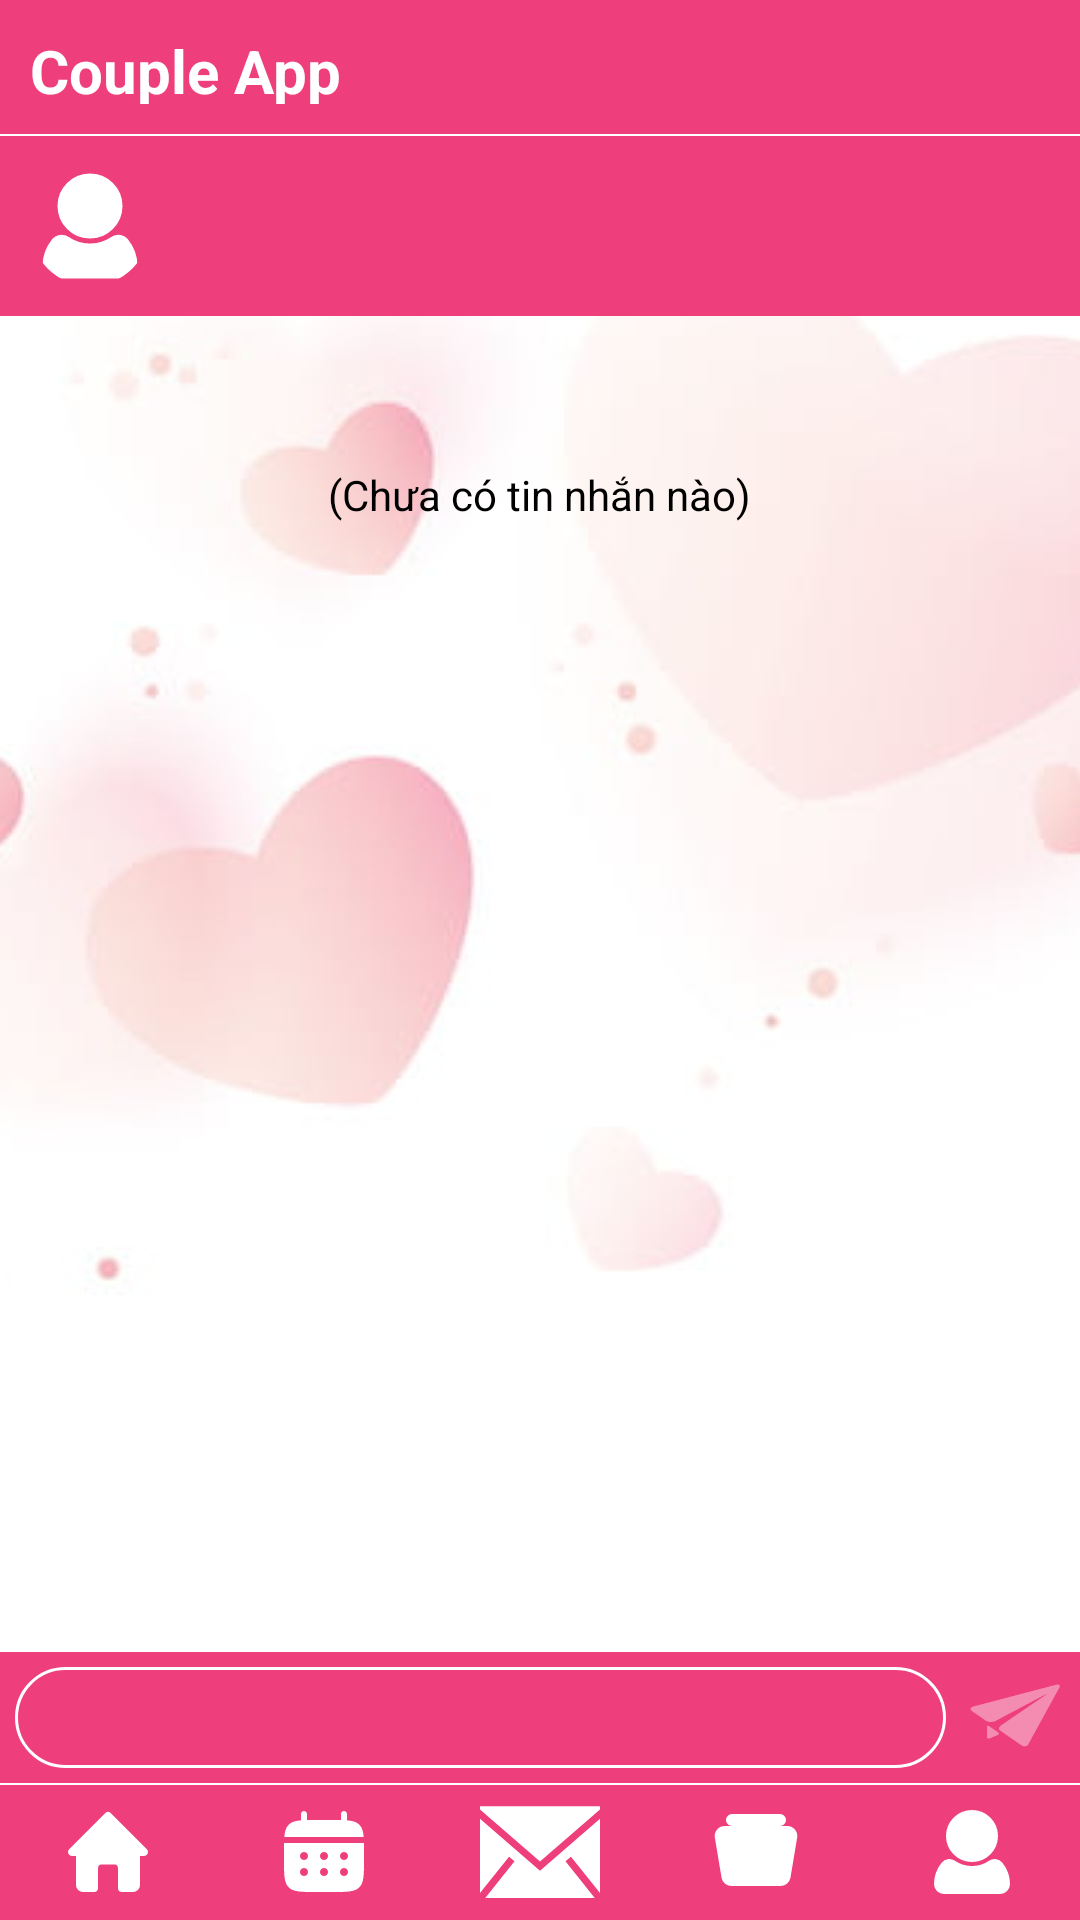

Where icons sit on this 1080px×1920px app screen, as (x1, y1, x2, y2):
calendar: (284, 1811, 364, 1892)
home: (68, 1812, 148, 1892)
message: (480, 1806, 600, 1898)
send: (970, 1684, 1060, 1746)
